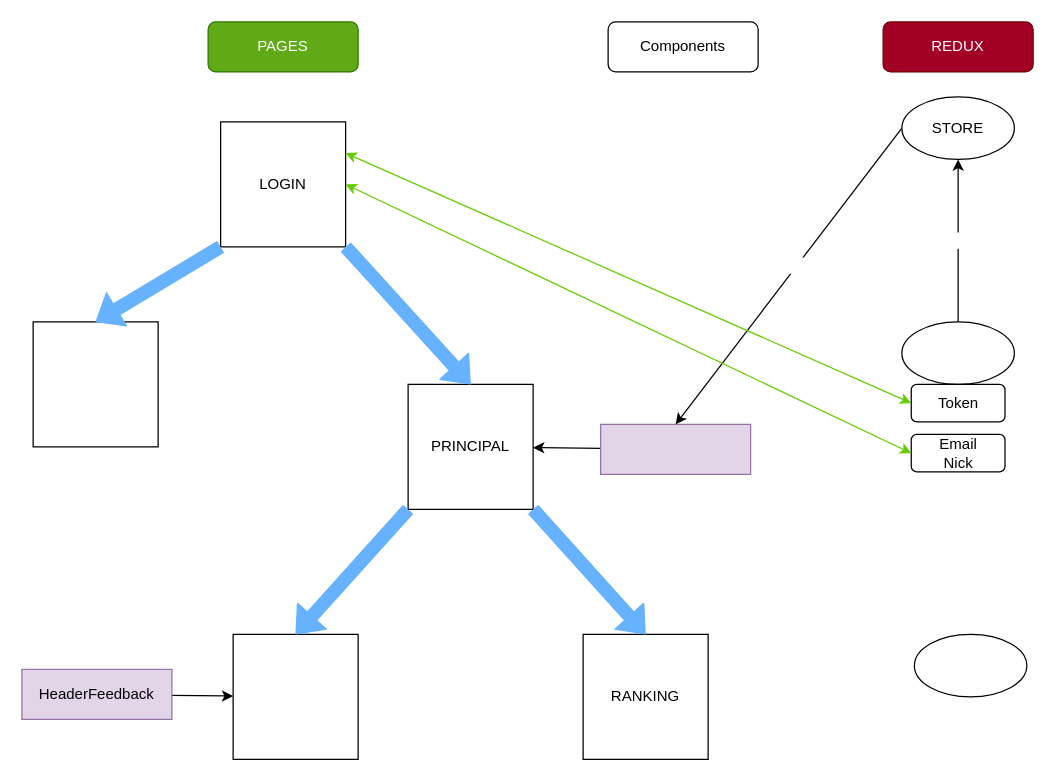
Image size: 1055x781. Some labels were removed from this diagram. Each missing label, with the centre of its shape:
ACTIONS: [970,665]
CONFIGURAÇÃO: [95,384]
FEEDBACK: [295,696]
HeaderPrincipalPage: [675,448]
REDUCERS: [957,352]
